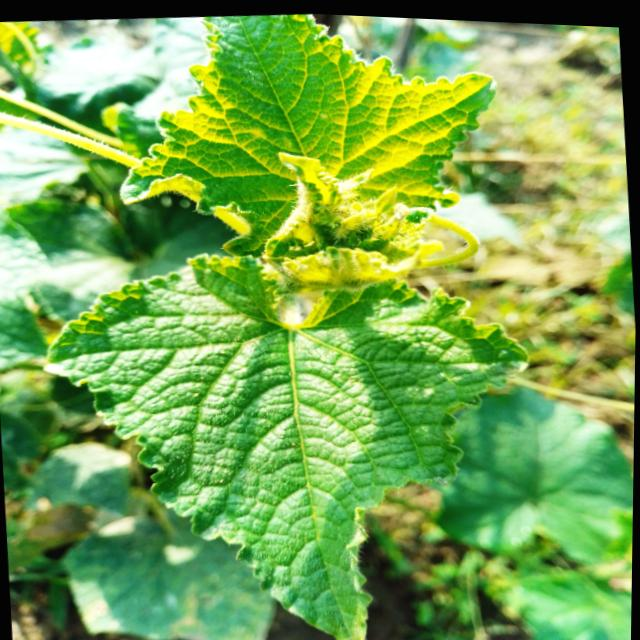Fresh-Leaf: (39, 248, 528, 640), (120, 14, 501, 256)
